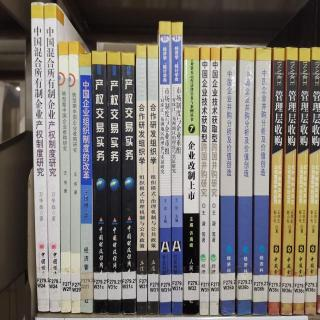book-spine: (31, 3, 50, 313), (43, 3, 62, 313), (217, 47, 238, 315), (235, 47, 256, 315), (266, 47, 286, 318), (182, 44, 201, 316), (280, 48, 299, 317), (301, 47, 320, 315), (90, 49, 108, 316), (293, 49, 311, 314), (253, 47, 270, 317), (107, 51, 124, 316), (144, 46, 160, 317), (67, 43, 82, 315), (169, 24, 183, 315), (121, 52, 136, 316), (78, 54, 93, 315), (57, 42, 71, 315), (135, 45, 149, 316), (208, 49, 221, 317), (159, 21, 170, 315), (198, 46, 210, 315)
